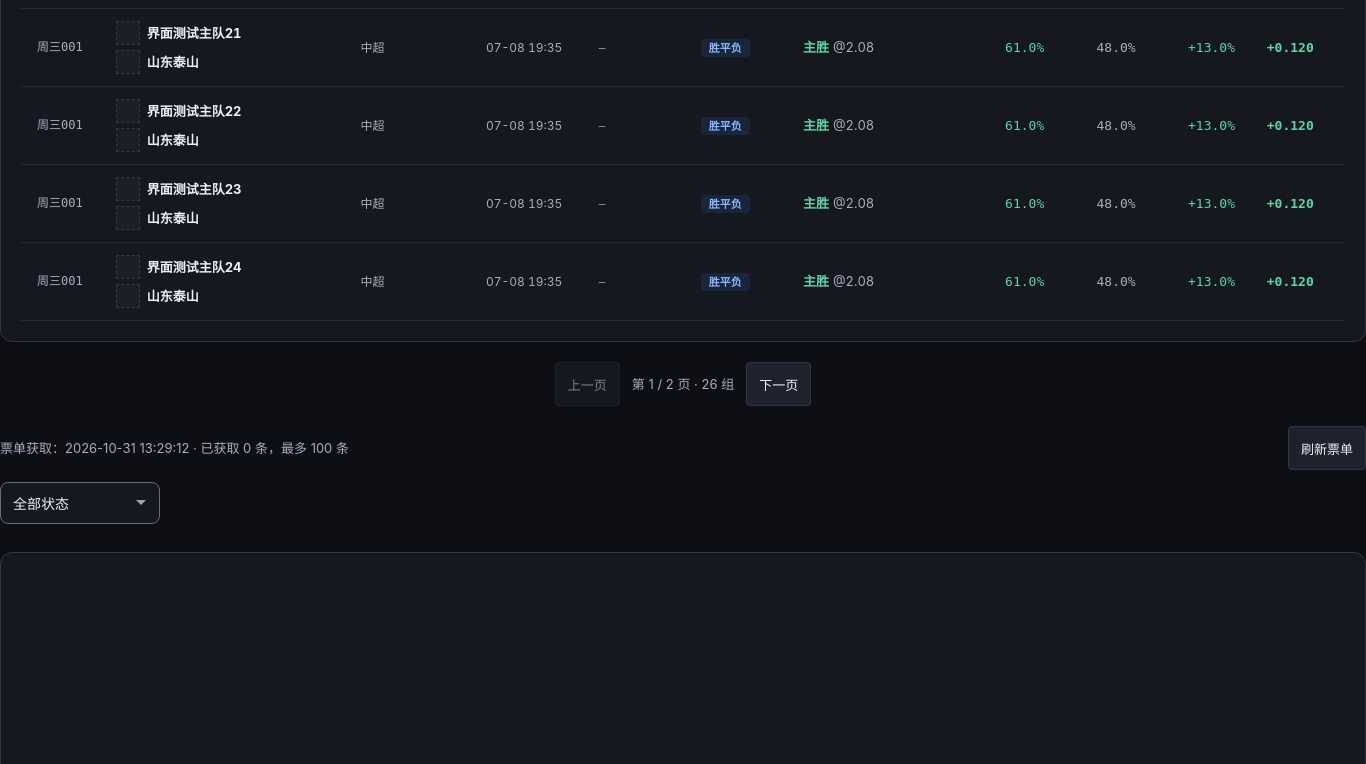
Test: 预测独立资源与证据分组 › 推荐分页每页25组，筛选后回第一页
(page scrolled)
Click the button with aria-label "下一页预测". click: [779, 384]
box: [746, 362, 811, 406]
(page scrolled)
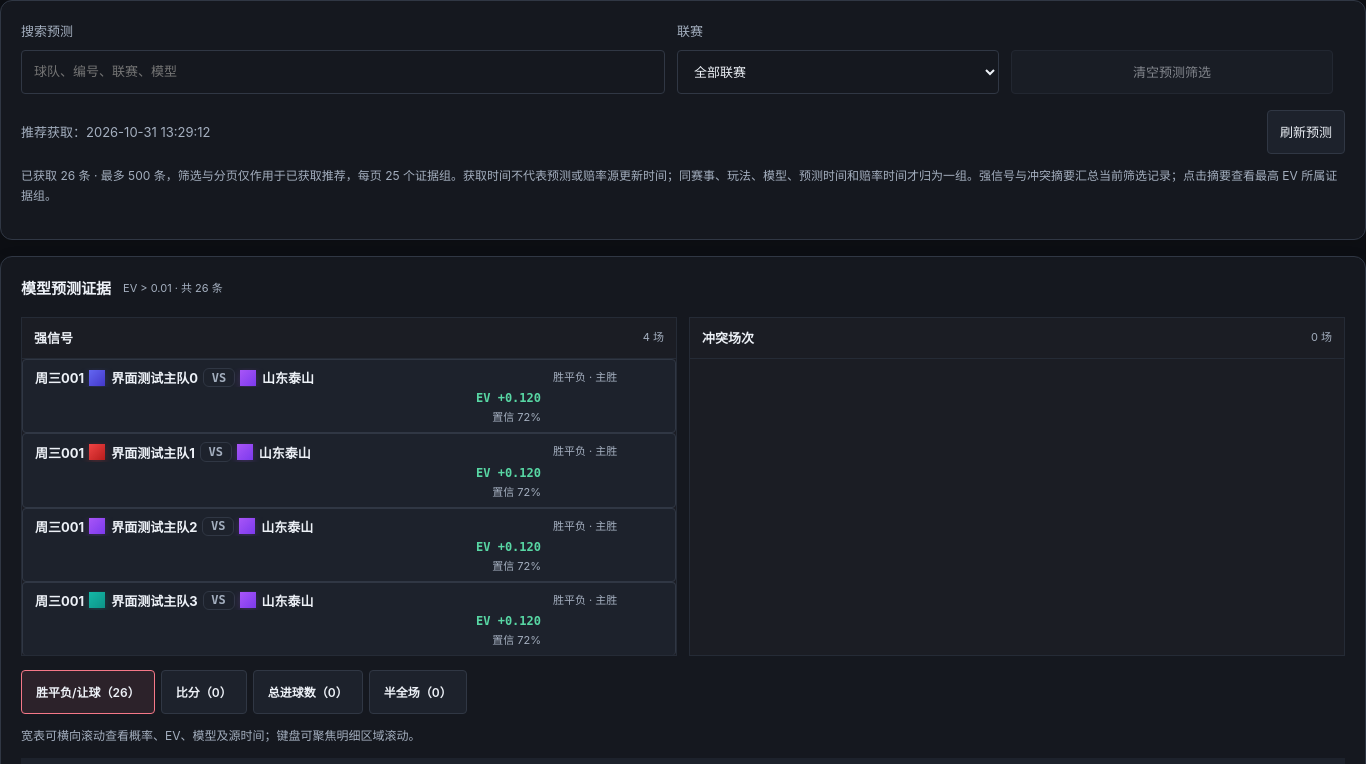
Type "主队0" into the search field named "搜索预测赛事". click: [343, 72]
box: [21, 50, 665, 94]
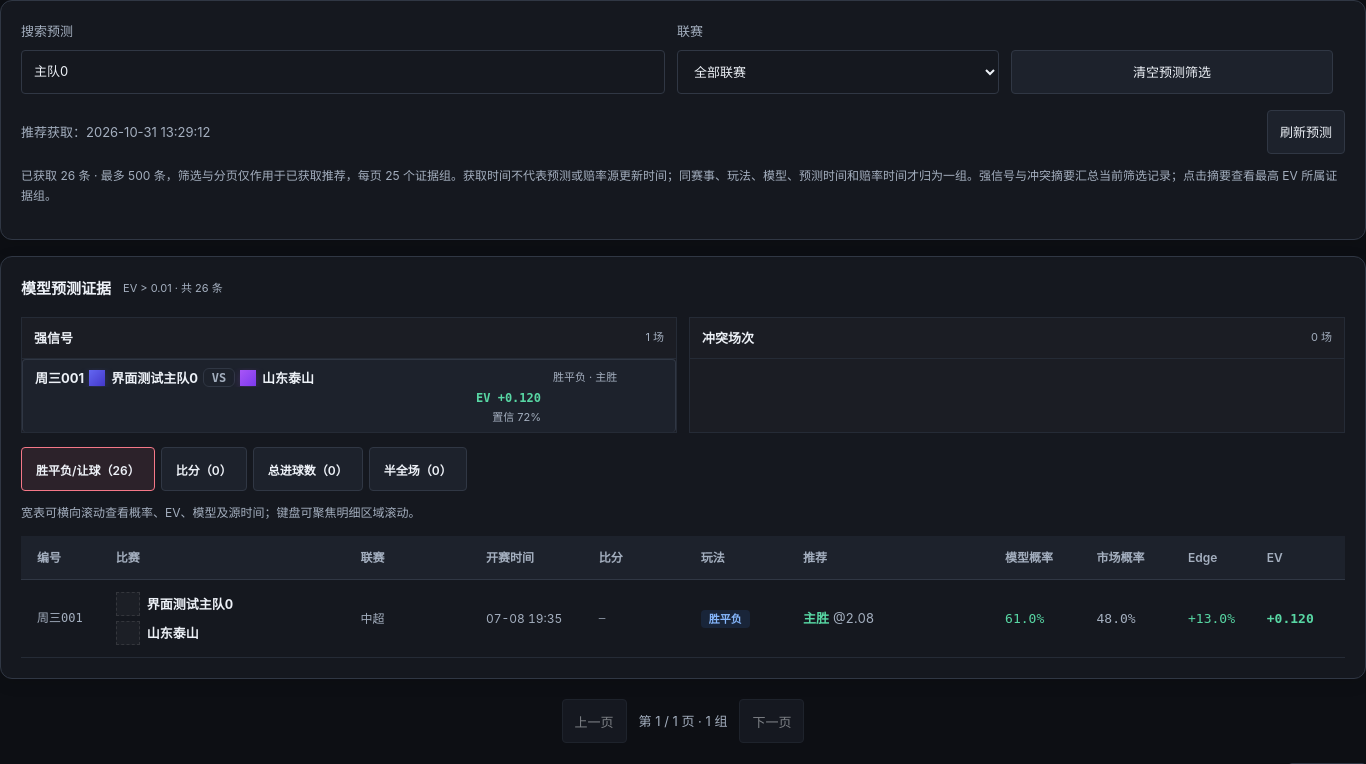
Result: the text "第 1 / 1 页 · 1 组" is shown at [638, 711, 728, 731]
